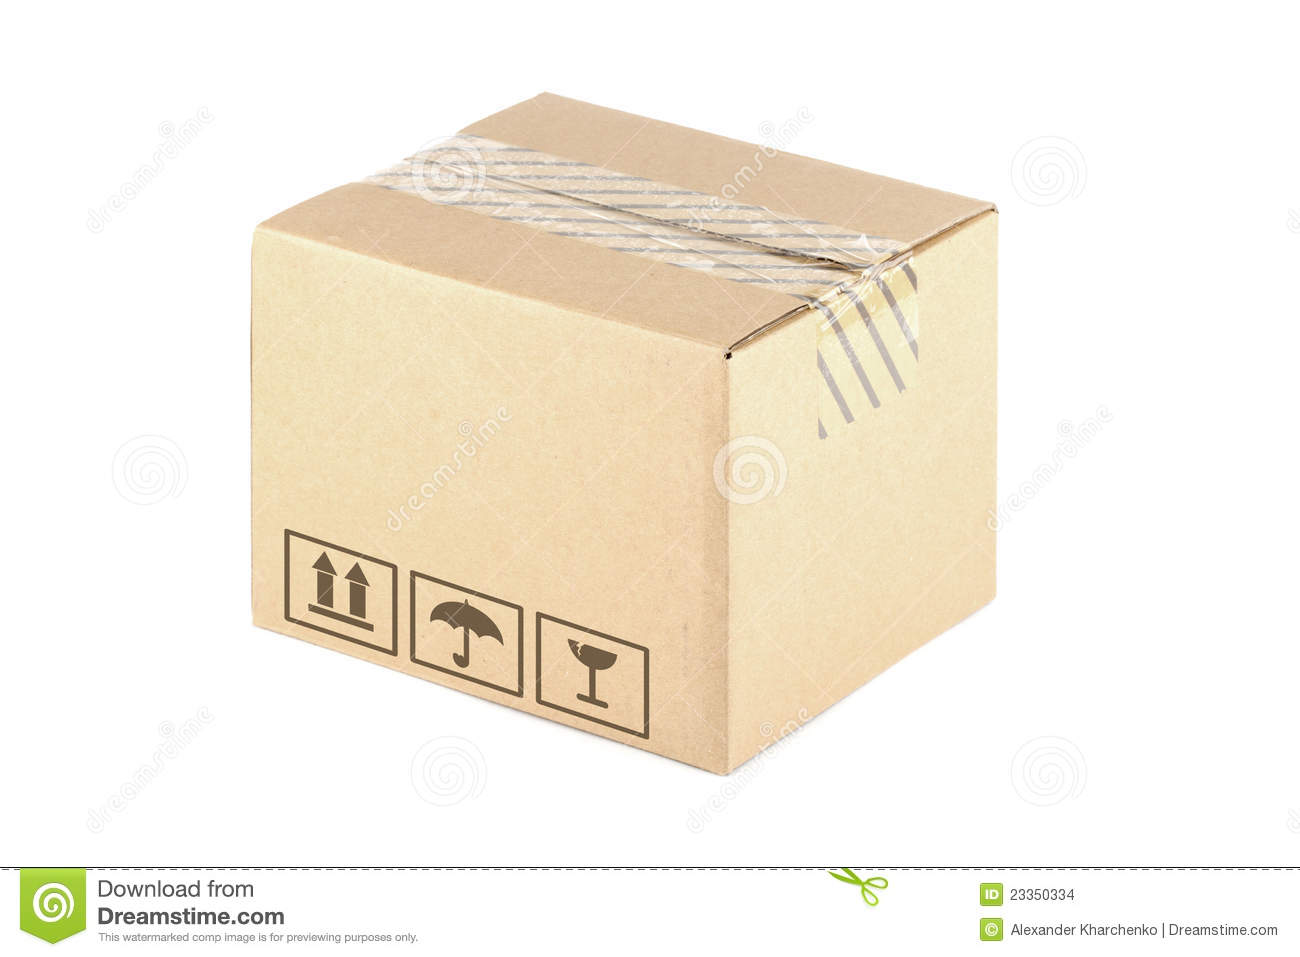Rec_Paper: (174, 73, 1056, 769)
